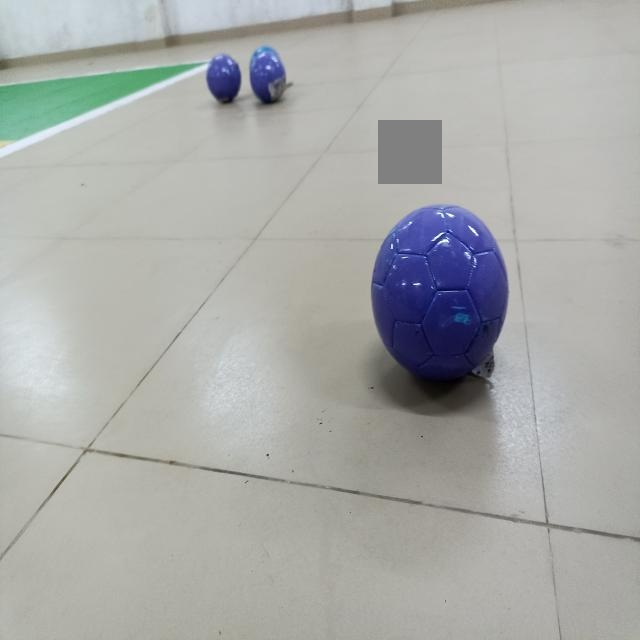purple_ball: (374, 206, 508, 384), (250, 52, 284, 101), (208, 56, 240, 102)
